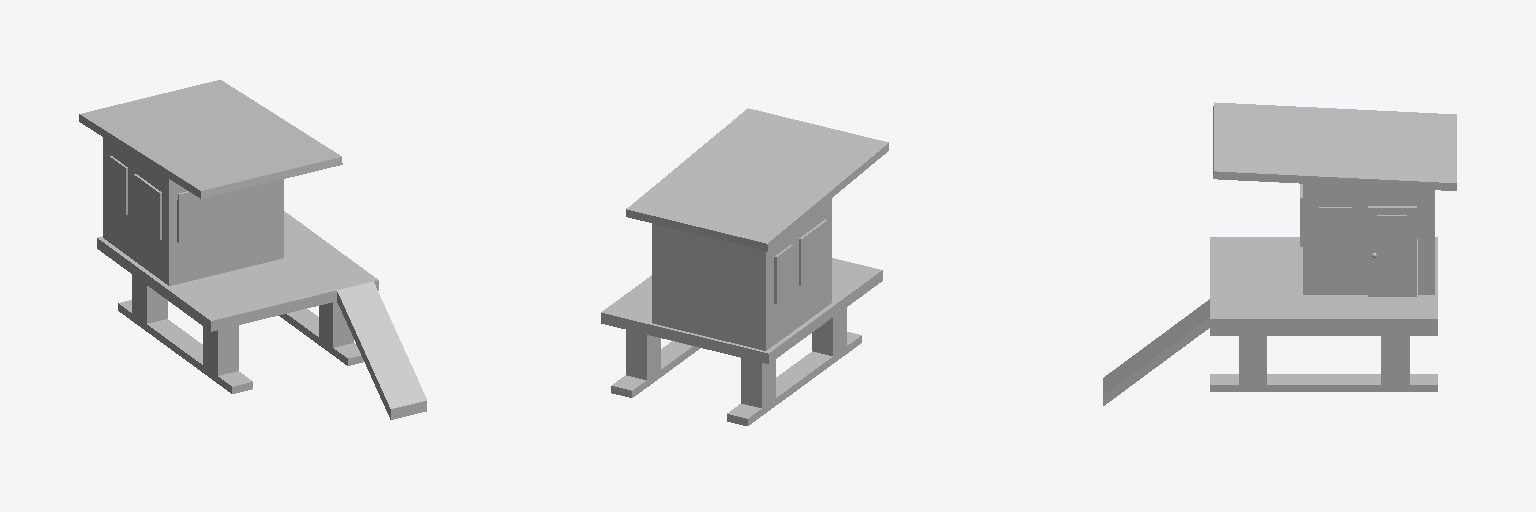
The model's file is Torre_Guarda.obj.
3 renders of one model, left to right at view 1: azimuth 30°, elevation 25°; view 2: azimuth 150°, elevation 25°; view 3: azimuth 270°, elevation 25°, orthographic.
Parts seen in each view (by area): view 1: Cube.001, Cube.003, Cube.007, Cube.006, Cube.005; view 2: Cube.001, Cube.003, Cube.006, Cube.005; view 3: Cube.001, Cube.003, Cube, Cube.004, Cube.002.
Boxes of the visible parts, box(x1,y1,x2,y2) form: Cube.001: box(79, 80, 342, 285); Cube.003: box(97, 211, 426, 419); Cube.007: box(177, 182, 270, 242); Cube.006: box(133, 174, 161, 239); Cube.005: box(109, 156, 127, 214); Cube.001: box(626, 108, 888, 350); Cube.003: box(601, 258, 882, 425); Cube.006: box(799, 219, 827, 285); Cube.005: box(774, 245, 792, 303); Cube.001: box(1213, 102, 1456, 294); Cube.003: box(1103, 237, 1437, 405); Cube: box(1368, 206, 1416, 296); Cube.004: box(1319, 207, 1351, 254); Cube.002: box(1377, 215, 1406, 246).
Size of the model in its own units: 6.24 by 7.48 by 10.87.